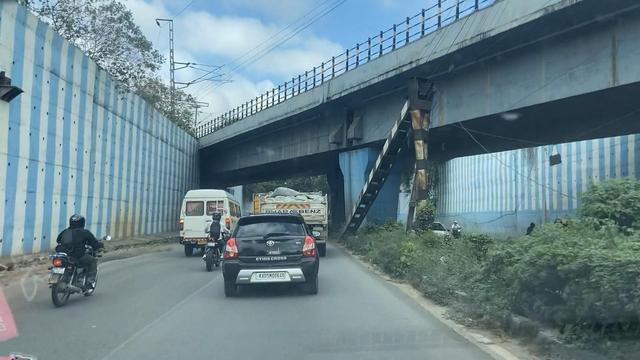HMV: (181, 187, 239, 253)
LMV: (222, 209, 325, 299), (47, 210, 121, 309), (204, 209, 230, 275)
